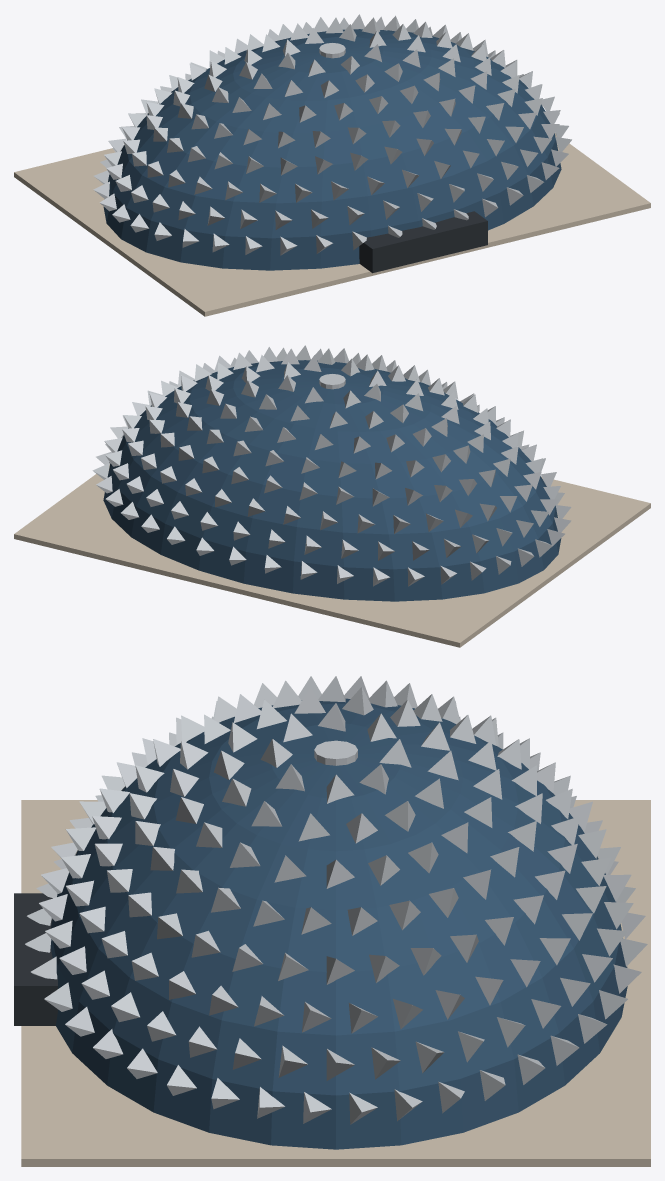
File: esplanade-domo.glb
3 renders of one model, top to bottom at view 1: azimuth 30°, elevation 25°; view 2: azimuth 150°, elevation 25°; view 3: azimuth 270°, elevation 25°, orthographic. The views are drawn at different scales.
Parts seen in each view (by area): view 1: esplanade-domo; view 2: esplanade-domo; view 3: esplanade-domo.
Part boxes in pixels (bbox=[...]): esplanade-domo: bbox=[14, 14, 650, 316]; esplanade-domo: bbox=[14, 345, 650, 647]; esplanade-domo: bbox=[14, 676, 650, 1166].
Size of the model in its own units: 116 by 37.47 by 87.
